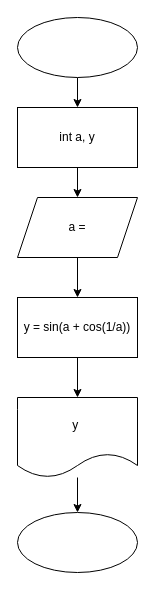
This 155x590 diagram has some shape labels left out. The box of each missing label's shape, as (x1, y1, x2, y2) in pixels:
end: (16, 512, 138, 572)
start: (16, 16, 138, 78)
